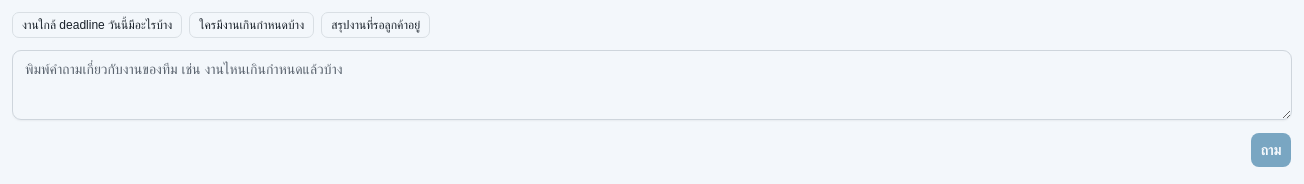
Test: QaClient › renders quick-prompt buttons that fill the question
This screenshot has width=1304, height=184.
Click the button "งานใกล้ deadline วันนี้มีอะไรบ้าง". click: (97, 25)
box: [12, 12, 182, 38]
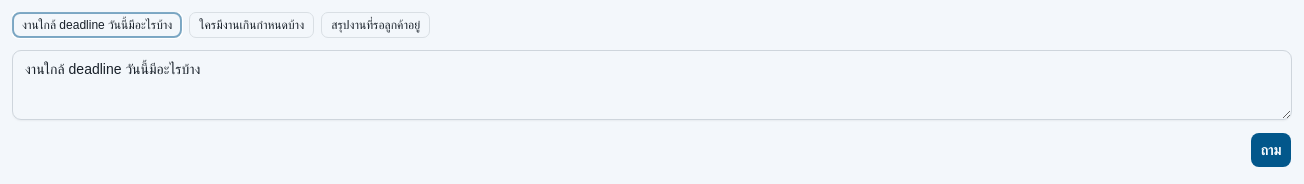
Now the text box named "คำถามเกี่ยวกับงาน" holds "งานใกล้ deadline วันนี้มีอะไรบ้าง", box [12, 50, 1292, 120]
